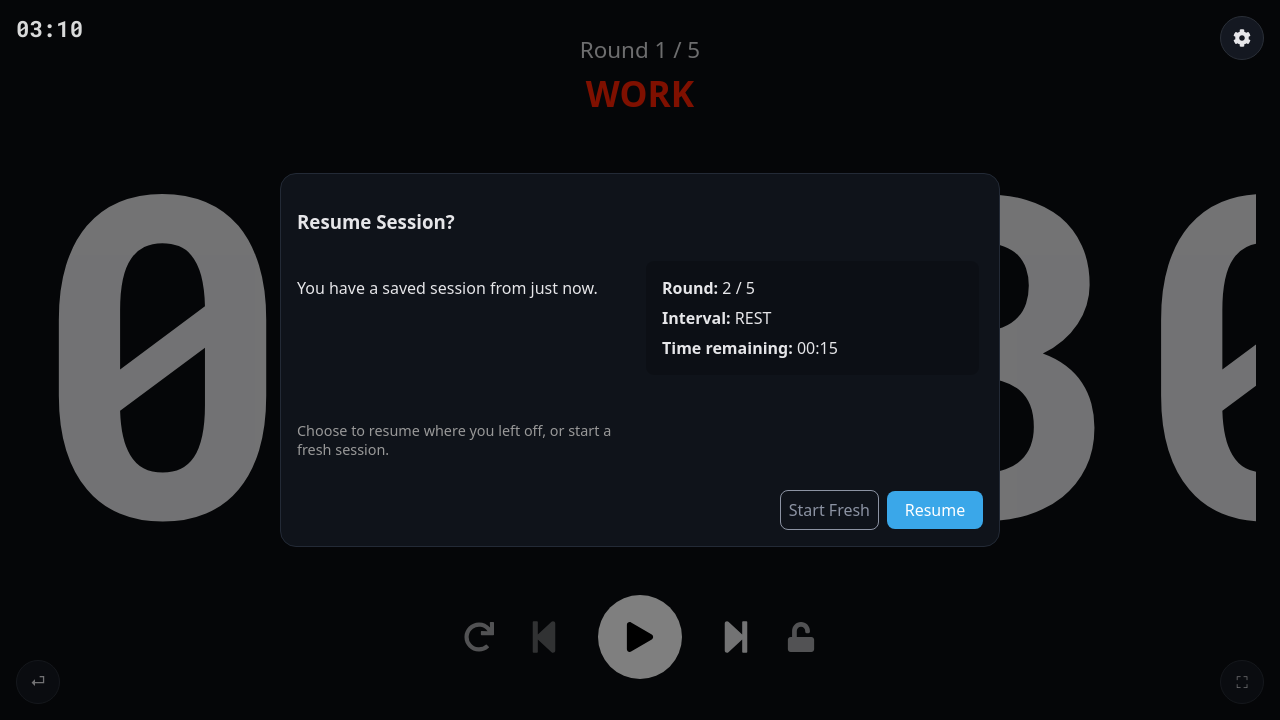
Test: Resume Modal › should start fresh when Start Fresh button clicked
Click the button "Start Fresh".
click(829, 510)  # box [780,490,879,530]
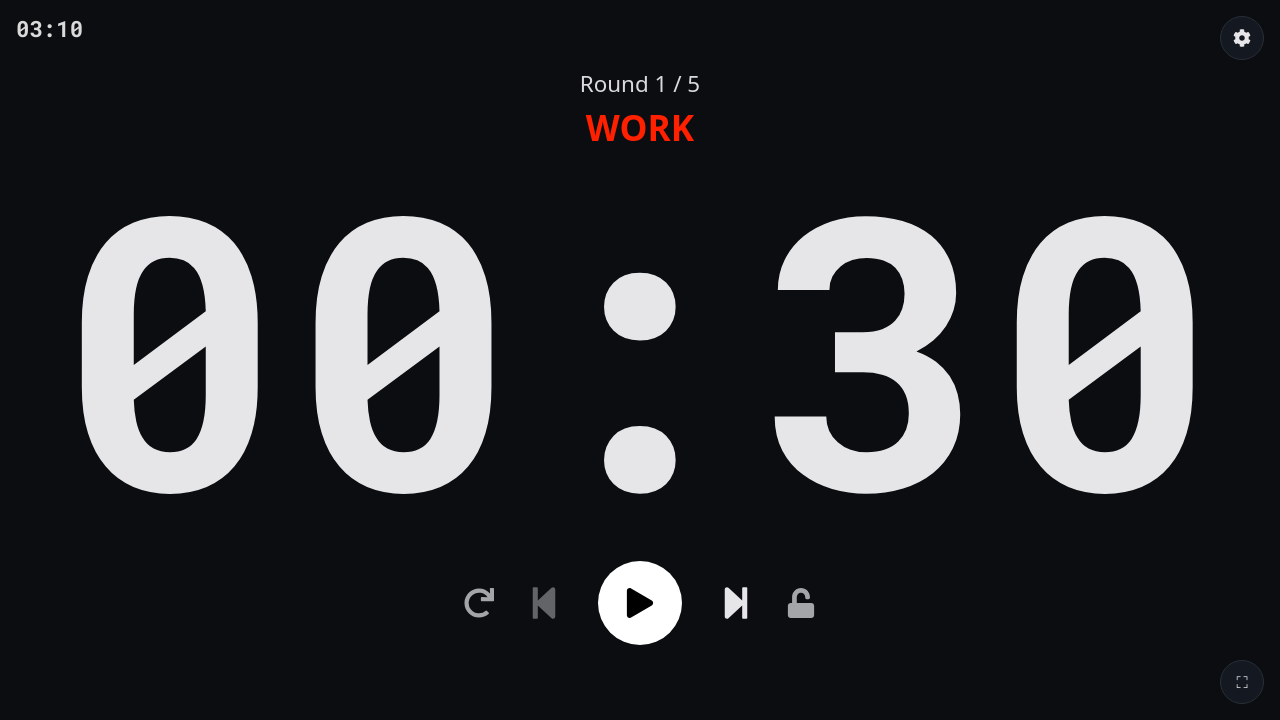
expect the heading "Resume Session" is gone: met
